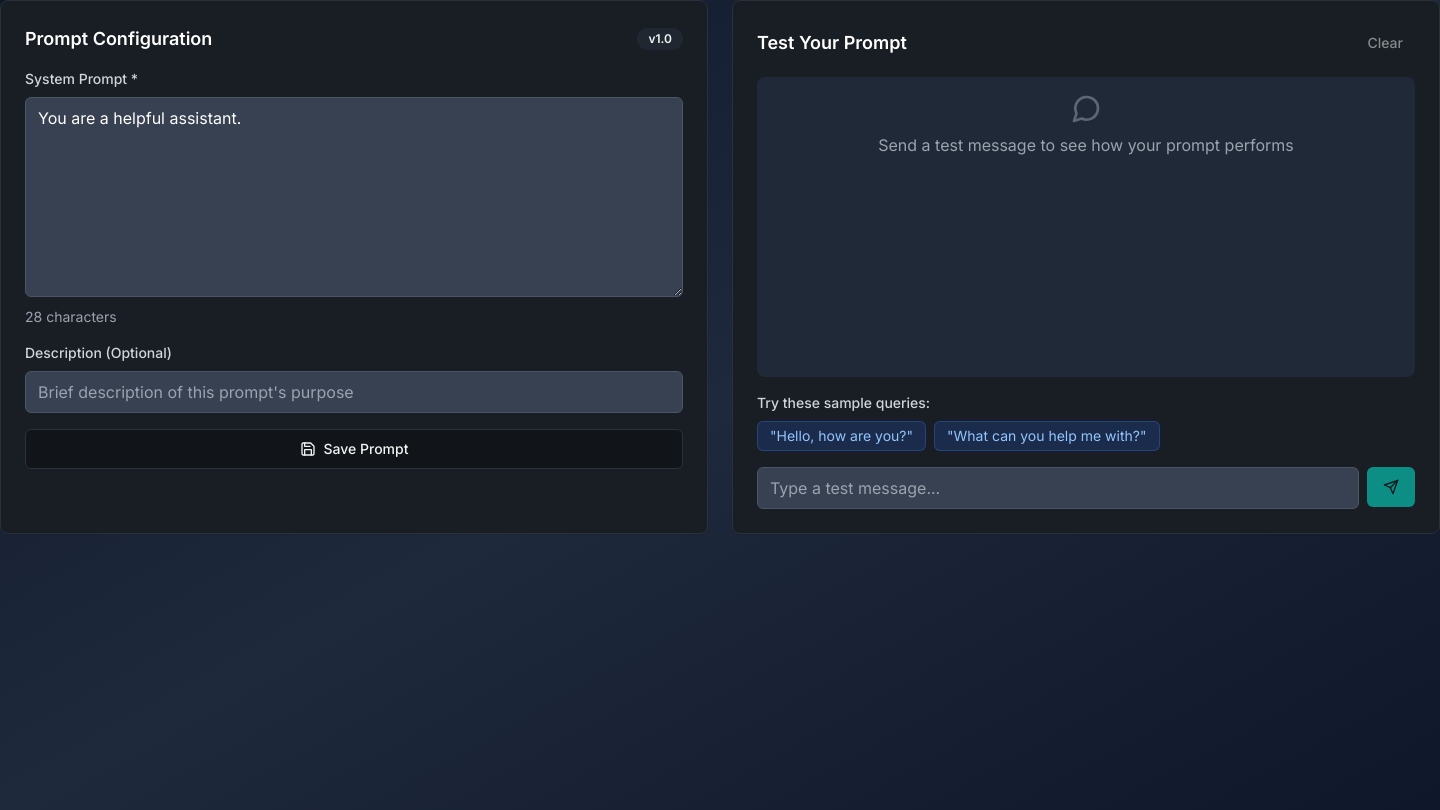
Test case: PromptTestingWorkbench › shows evaluation transition when messages exist
This screenshot has width=1440, height=810.
Send a test message
Step 1. Type "Test" into the field with test id "test-message-input" → (1058, 488), box [757,467,1359,509]
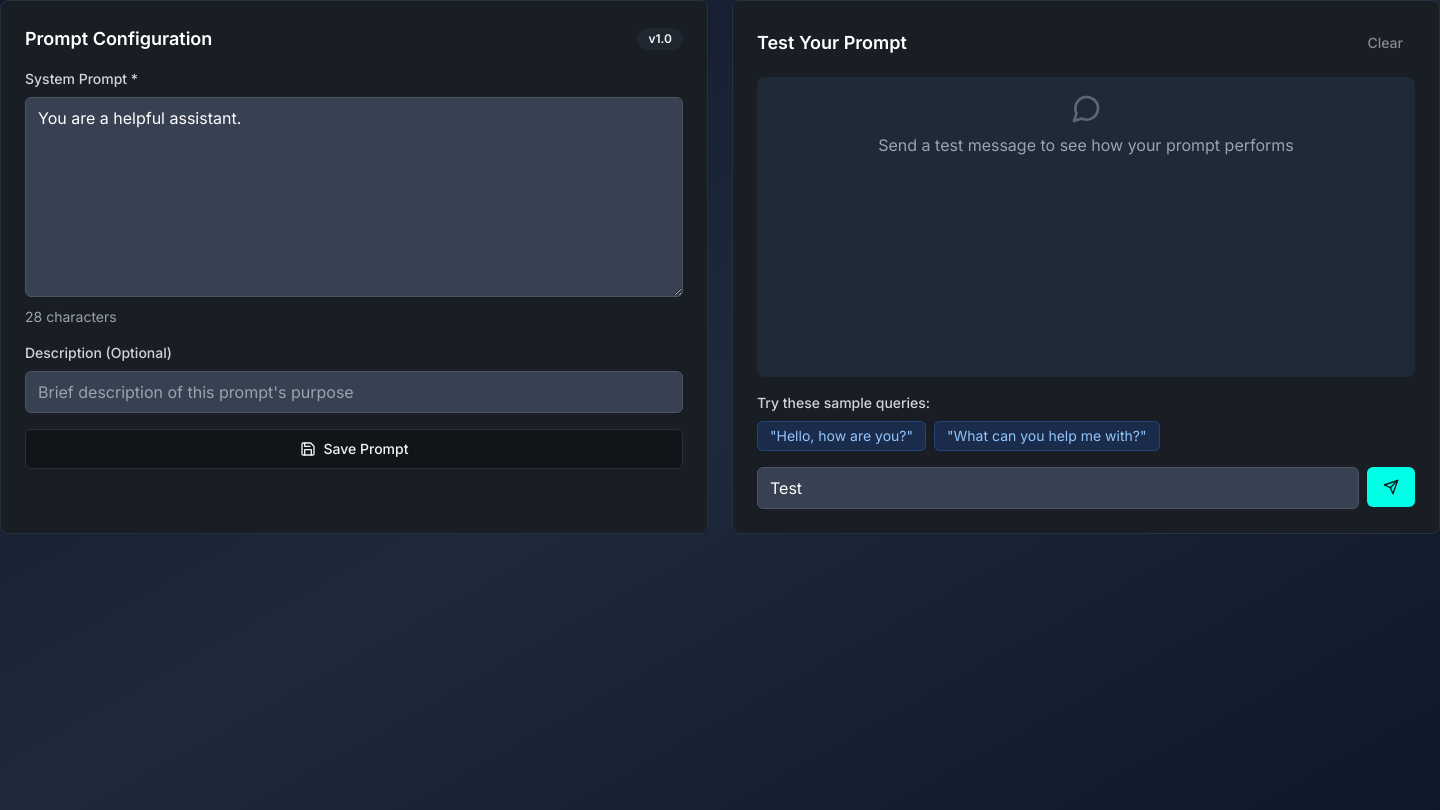
Step 2. Click the button with test id "send-test-message" → (1391, 487), box [1367,467,1415,507]
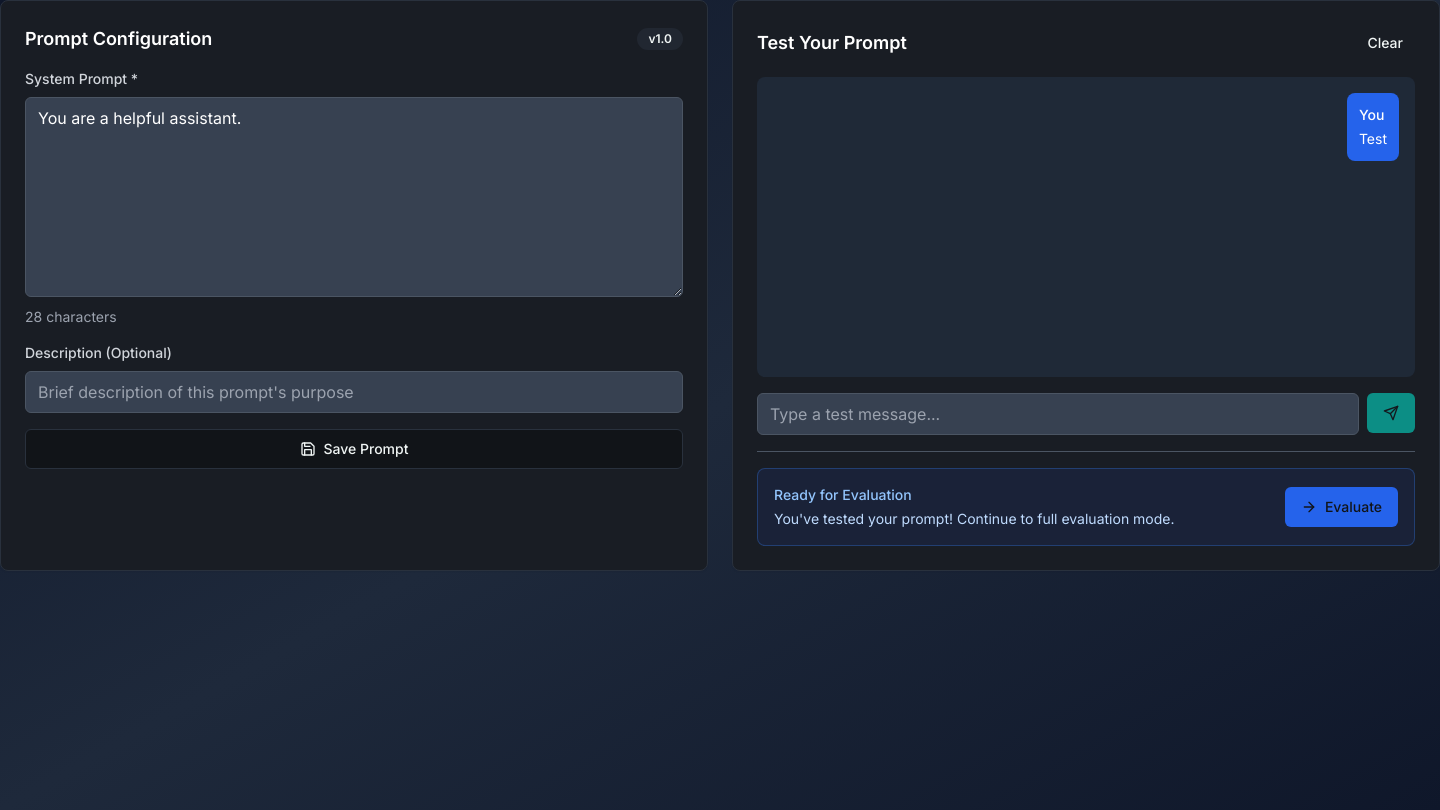
Expected: the button with test id "continue-to-evaluation" is shown, [1285,487,1398,527]
